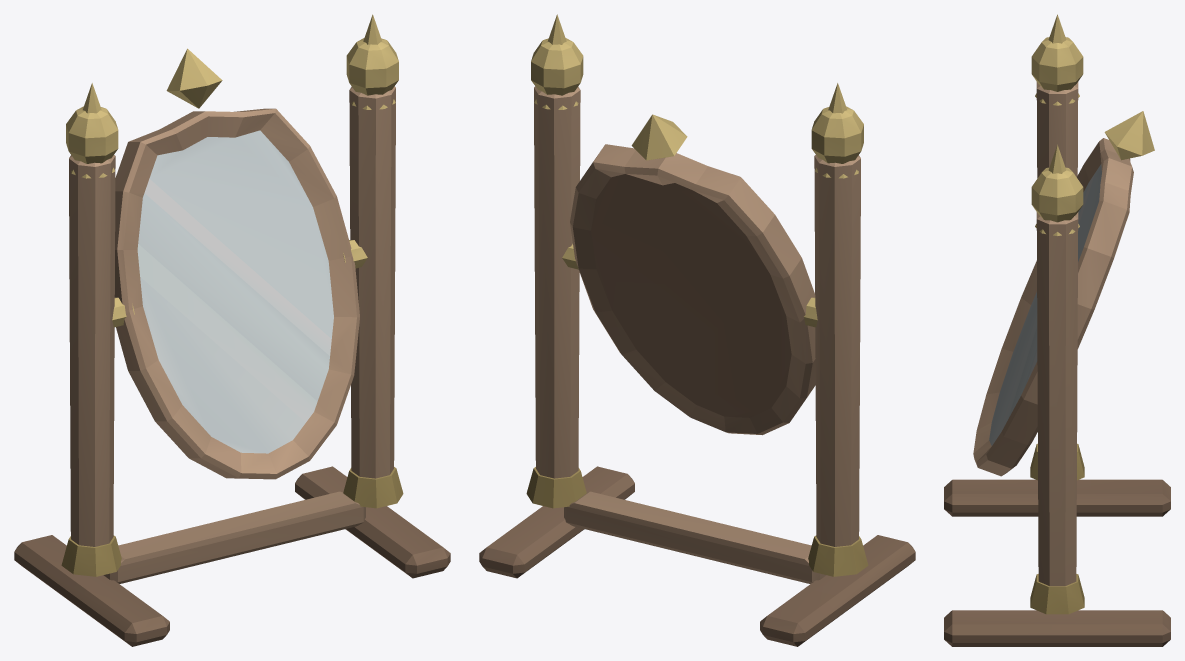
Rendered from mirror.glb.
3 renders of one model, left to right at view 1: azimuth 30°, elevation 25°; view 2: azimuth 150°, elevation 25°; view 3: azimuth 270°, elevation 25°, orthographic. The views are drawn at different scales.
Visible parts, largest first — view 1: mirror; view 2: mirror; view 3: mirror.
Part boxes in pixels (box(x1,y1,x2,y2)): mirror: box(14, 14, 450, 646); mirror: box(479, 14, 915, 646); mirror: box(944, 14, 1170, 646).
Size of the model in its own units: 0.8001 by 1.2 by 0.5.
